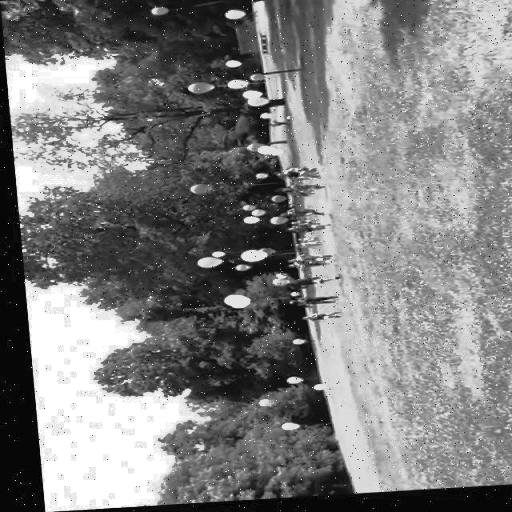balloon: (217, 296, 245, 311), (234, 251, 264, 265), (187, 84, 213, 96), (192, 260, 218, 270), (246, 98, 267, 109), (273, 424, 293, 435), (186, 185, 208, 195), (245, 144, 263, 154), (242, 92, 260, 102), (224, 60, 242, 70), (266, 218, 285, 227), (256, 248, 272, 258), (239, 218, 258, 226), (250, 401, 269, 408), (268, 281, 286, 288), (265, 150, 282, 157), (228, 82, 244, 89), (278, 380, 296, 386), (248, 76, 265, 82), (252, 174, 266, 181), (286, 341, 302, 347), (248, 212, 264, 218), (256, 150, 272, 156), (231, 267, 245, 273), (268, 199, 282, 205), (259, 114, 269, 122), (237, 206, 250, 212), (305, 387, 319, 392), (240, 303, 250, 309), (284, 294, 294, 300), (272, 275, 282, 280), (208, 253, 217, 258)
